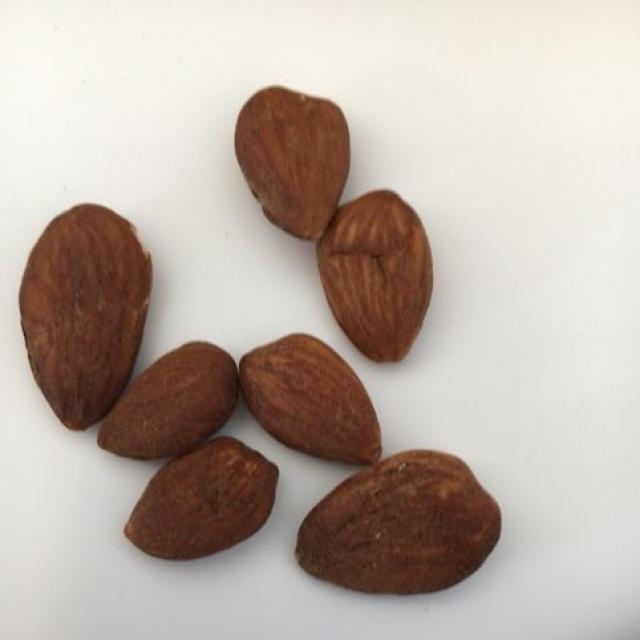almonds: (22, 131, 493, 582)
